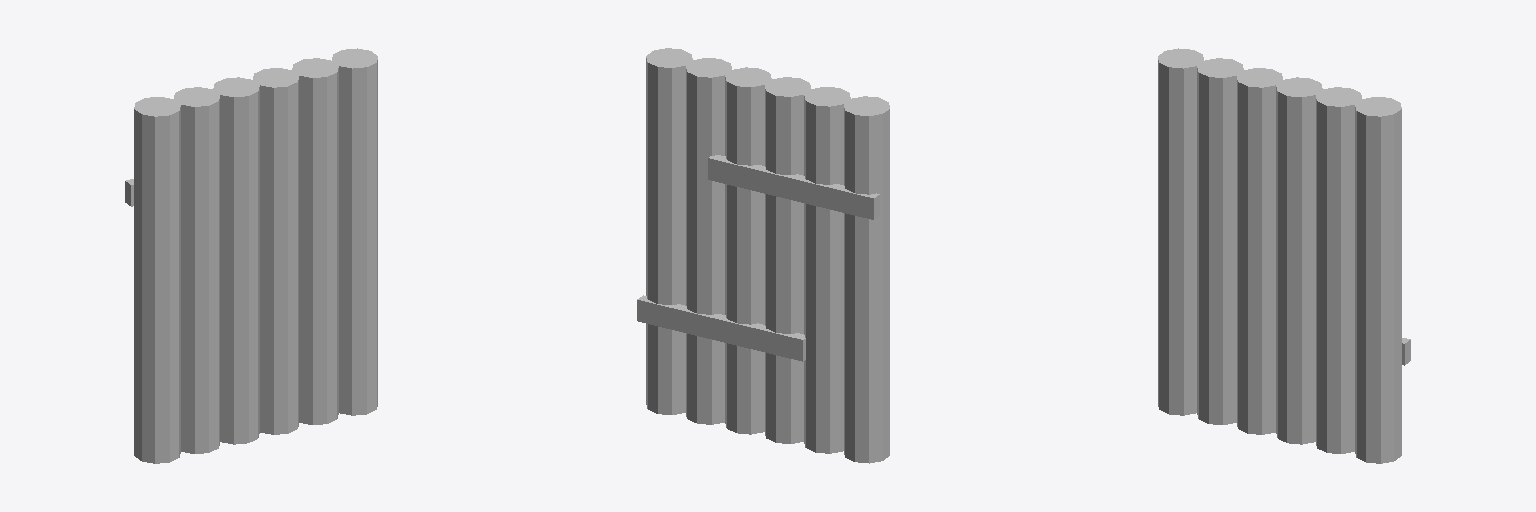
File: puertaValla.obj
The picture shows the model from 3 angles: view 1: azimuth 30°, elevation 25°; view 2: azimuth 150°, elevation 25°; view 3: azimuth 330°, elevation 25°; orthographic projection.
Parts seen in each view (by area): view 1: PuertaValla_Cylinder.001; view 2: PuertaValla_Cylinder.001; view 3: PuertaValla_Cylinder.001.
Boxes of the visible parts, x1=… form: PuertaValla_Cylinder.001: x1=125, y1=48, x2=377, y2=463; PuertaValla_Cylinder.001: x1=637, y1=48, x2=889, y2=463; PuertaValla_Cylinder.001: x1=1158, y1=48, x2=1410, y2=463.
Size of the model in its own units: 2.28 by 3.2 by 0.409.